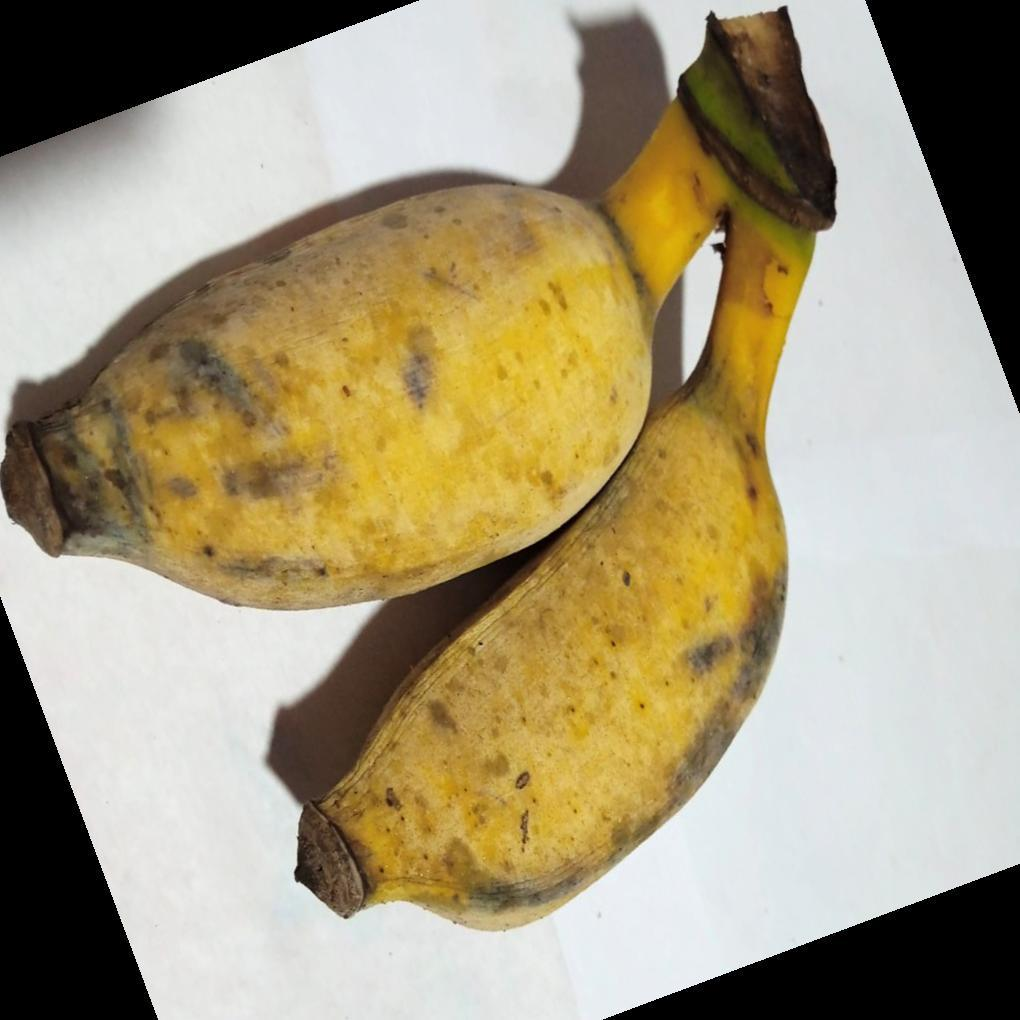Banana Ripe: (13, 50, 867, 987), (316, 76, 860, 969), (5, 11, 740, 614)
